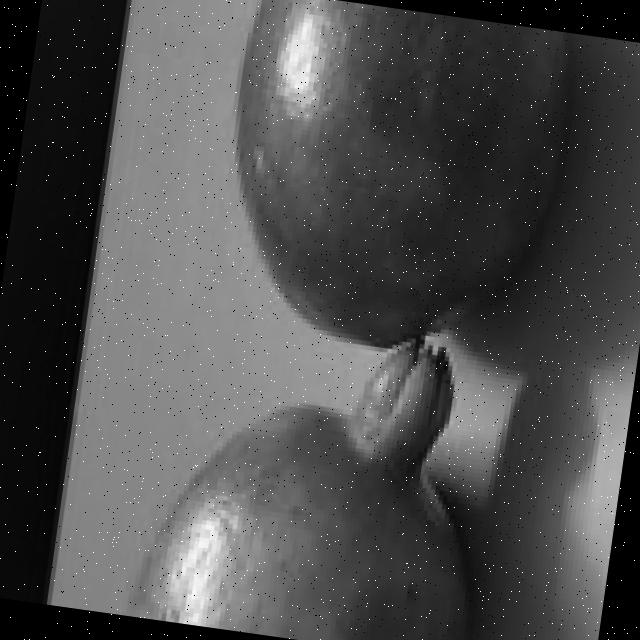Good_Pomegranate-50-60-days: (133, 0, 579, 640)
